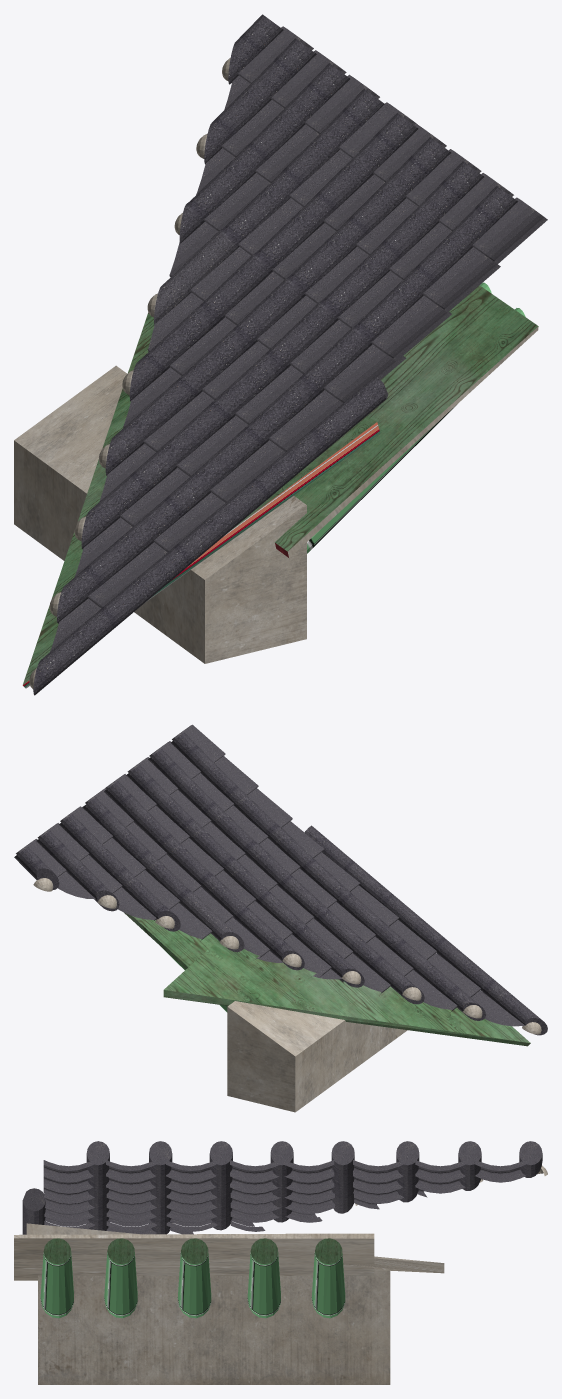
The model's file is SM_R_RoofCornerCut_8.fbx.
3 renders of one model, top to bottom at view 1: azimuth 30°, elevation 25°; view 2: azimuth 150°, elevation 25°; view 3: azimuth 270°, elevation 25°, orthographic. The views are drawn at different scales.
Visible parts, largest first — view 1: SM_R_RoofCornerCut_8; view 2: SM_R_RoofCornerCut_8; view 3: SM_R_RoofCornerCut_8.
Boxes of the visible parts, bbox=[...] form: SM_R_RoofCornerCut_8: bbox=[14, 14, 547, 695]; SM_R_RoofCornerCut_8: bbox=[14, 724, 547, 1112]; SM_R_RoofCornerCut_8: bbox=[14, 1141, 547, 1384].
Size of the model in its own units: 330 by 312 by 222.
5 materials, 5 textured.
